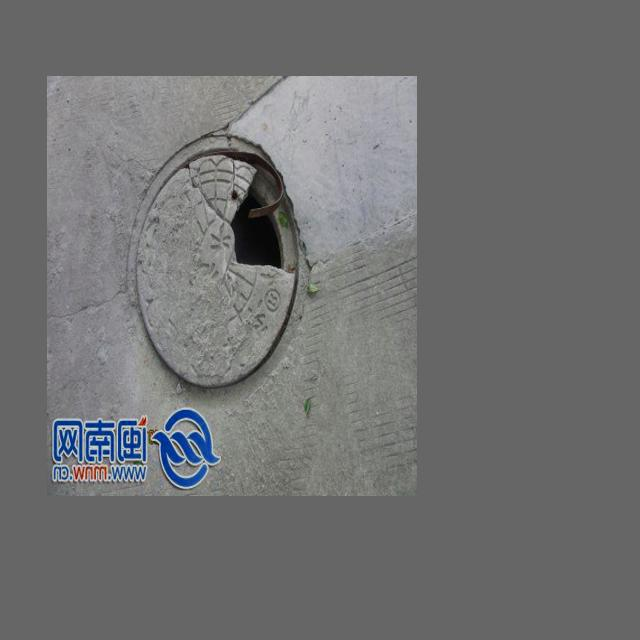broke: (125, 124, 320, 403)
